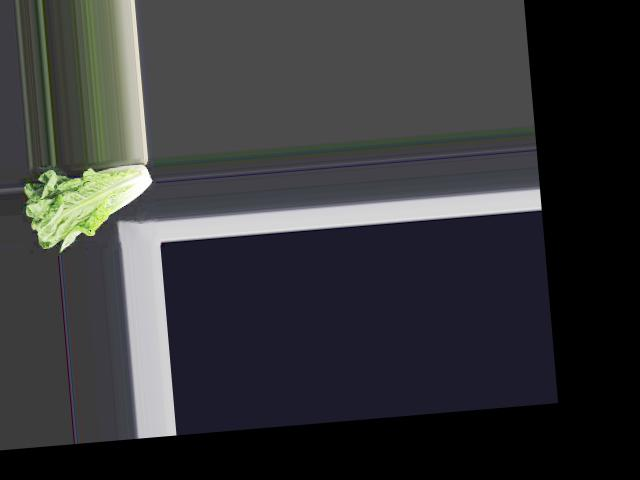lettuce: (20, 160, 158, 253)
